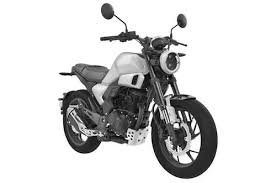motor: (55, 1, 222, 181)
